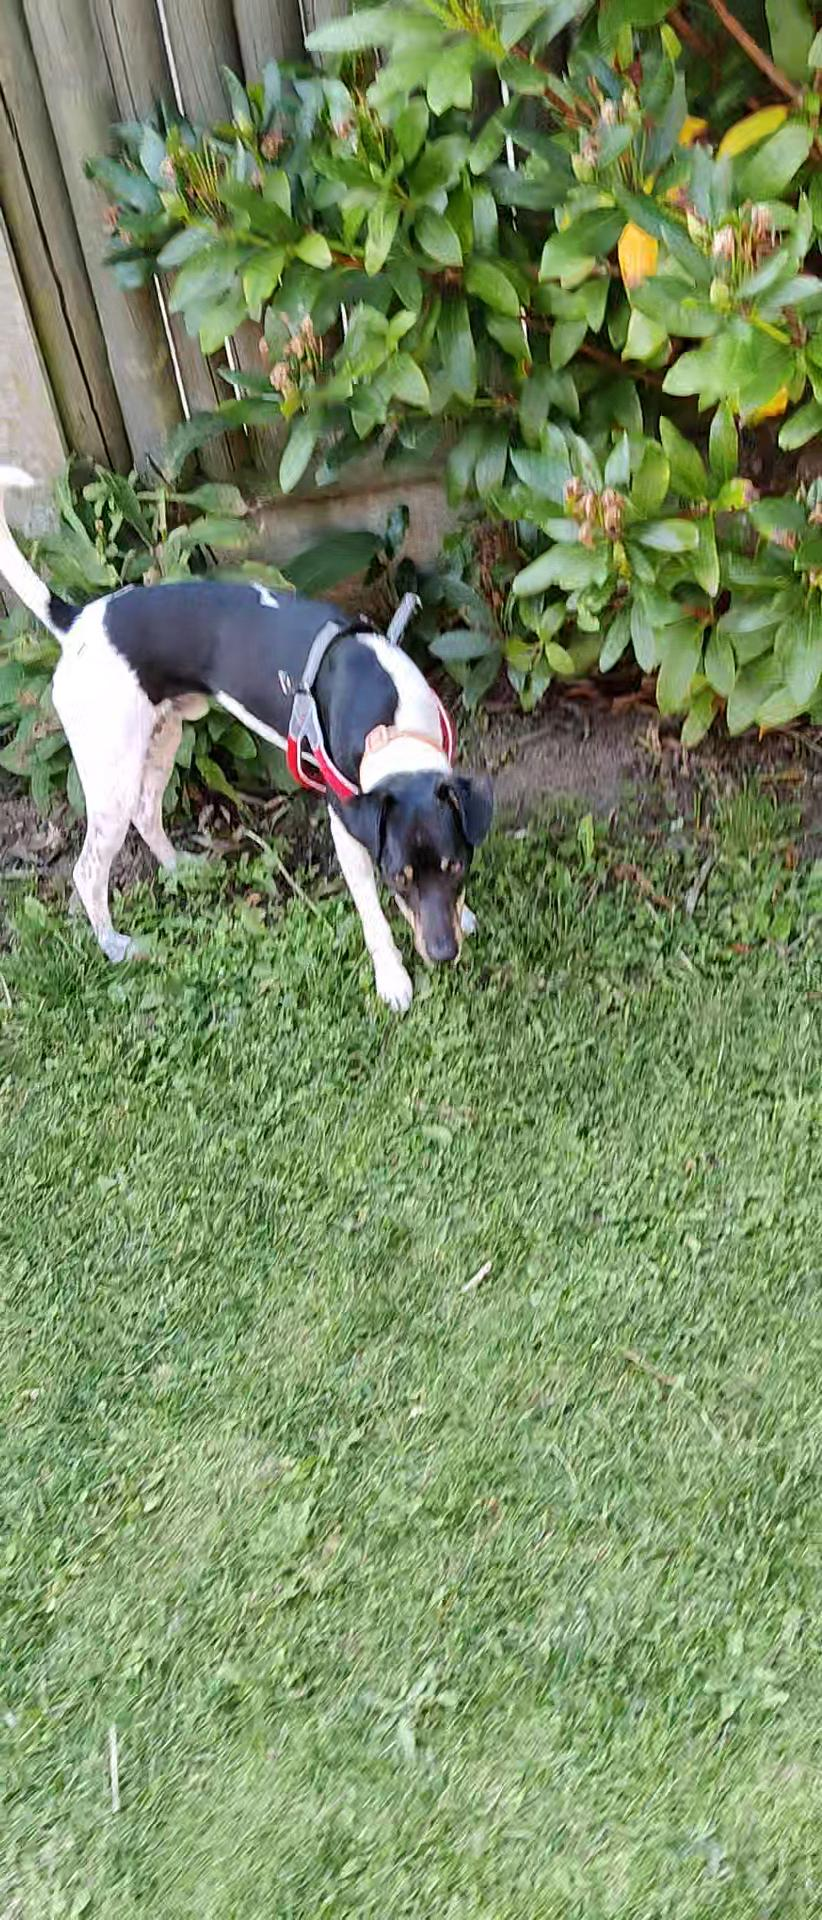Dog: (0, 457, 524, 1015)
